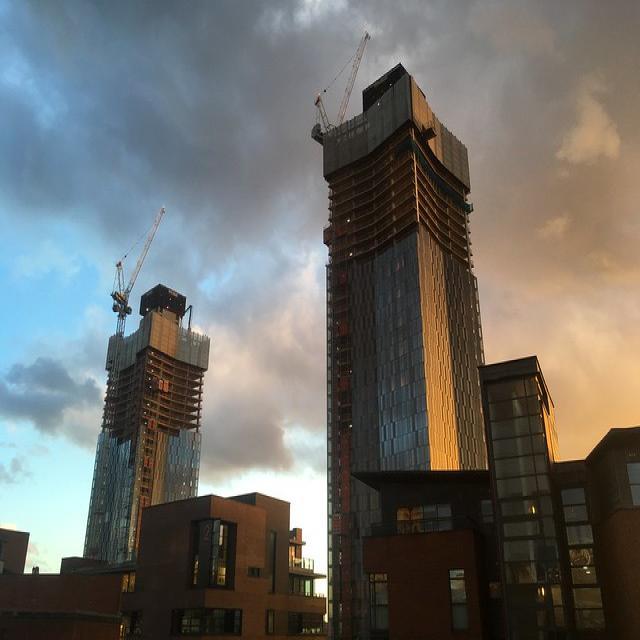Normal_building: (319, 66, 491, 615), (80, 296, 210, 588)
